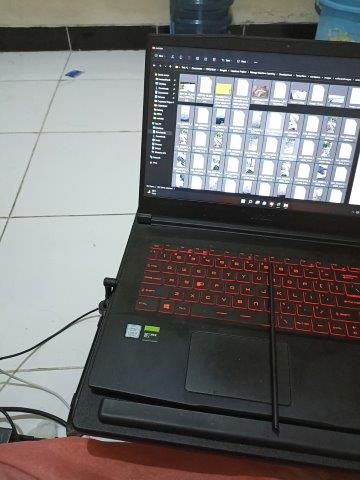sedotan: (269, 263, 280, 432)
